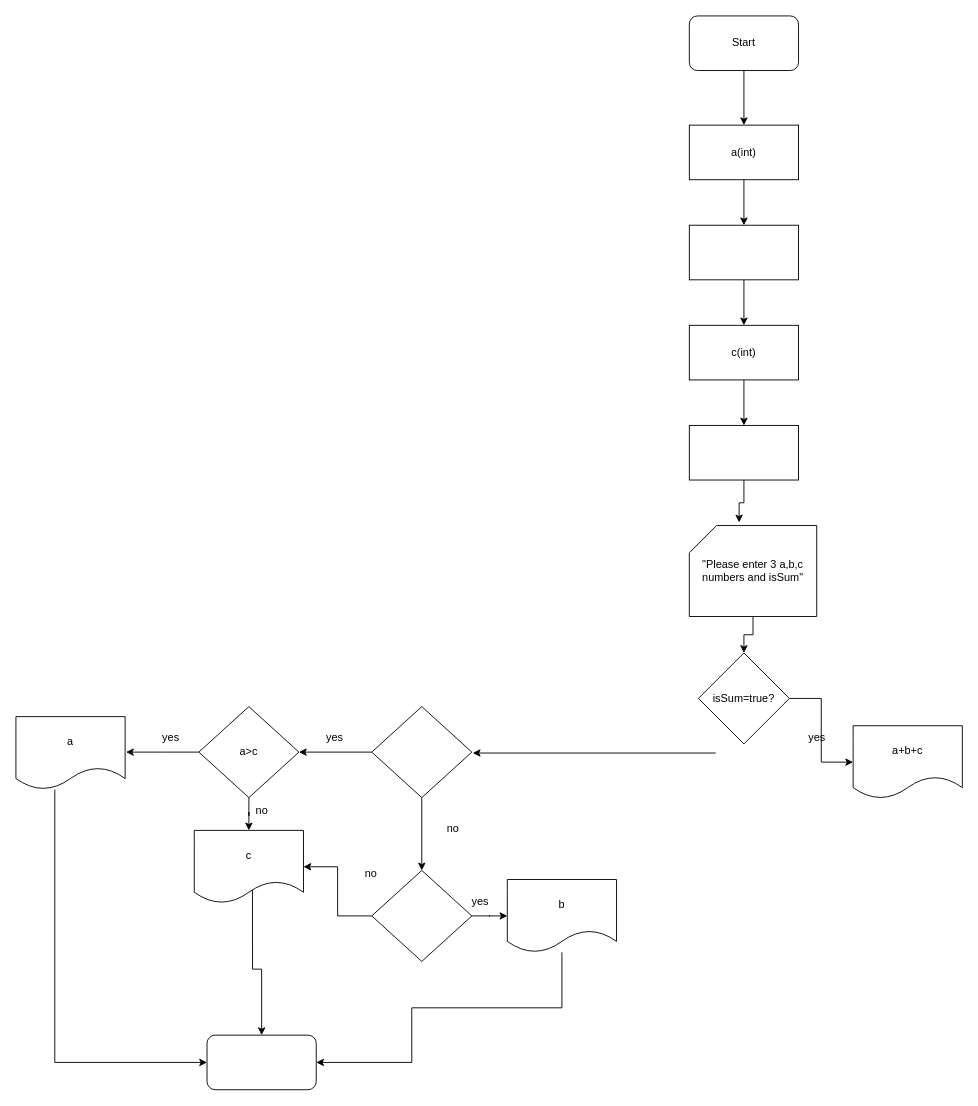
The diagram is 978 pixels wide and 1106 high, and some of its shapes have lost their labels. The shapes that lost their labels are listed below. From the top down, each one's centre as x and y in pixels, then its label:
(743,252): b(int)
(743,452): isSum(boolean)
(421,752): a>b
(421,915): b>c
(261,1062): End
